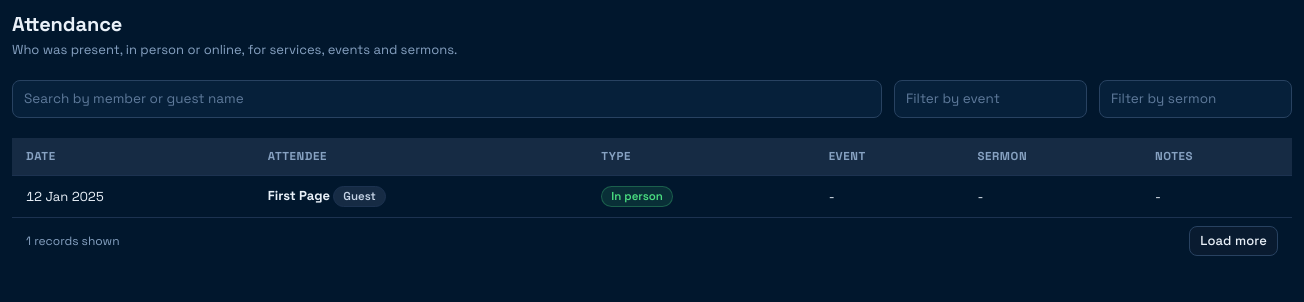
it: attendance list › pages by cursor: Load more sends the cursor and appends the next records
The width and height of the screenshot is (1304, 302).
Expected: the text "First Page" is shown, [268,187,330,204]
Click the button "Load more" at (1234, 242), box [1189,226,1278,256]
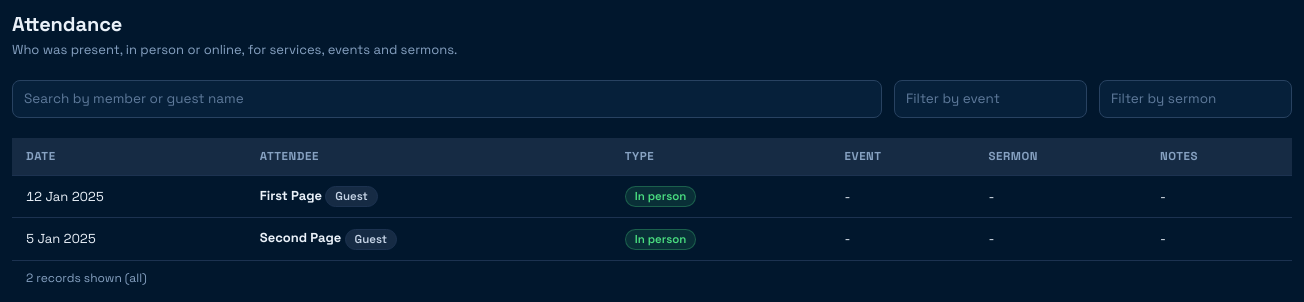
Expected: the text "First Page" is shown, [260,187,322,204]
Result: the text "Second Page" is shown at [260,230,341,246]
